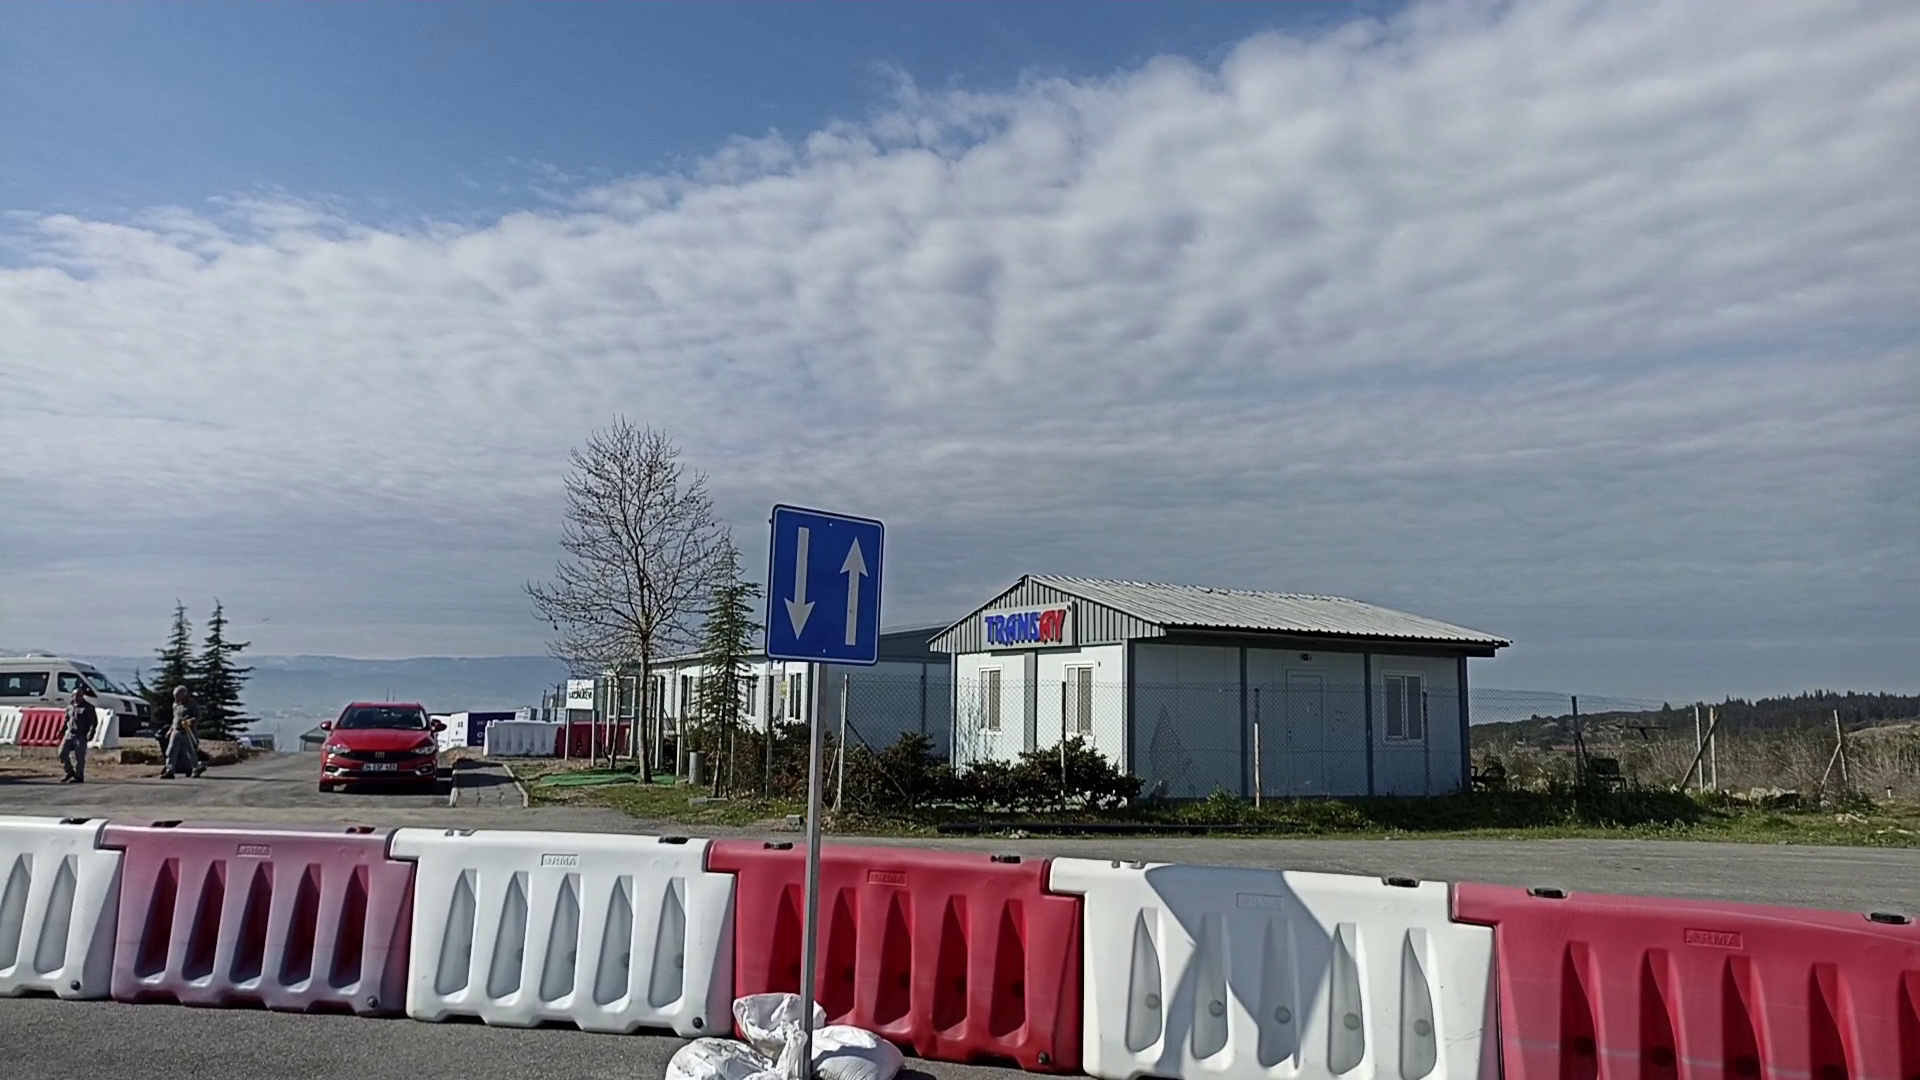oneway: (761, 500, 887, 669)
